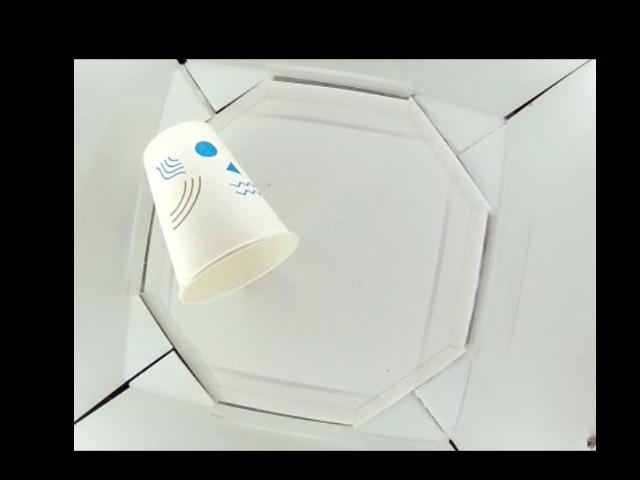Cup: (139, 118, 295, 299)
